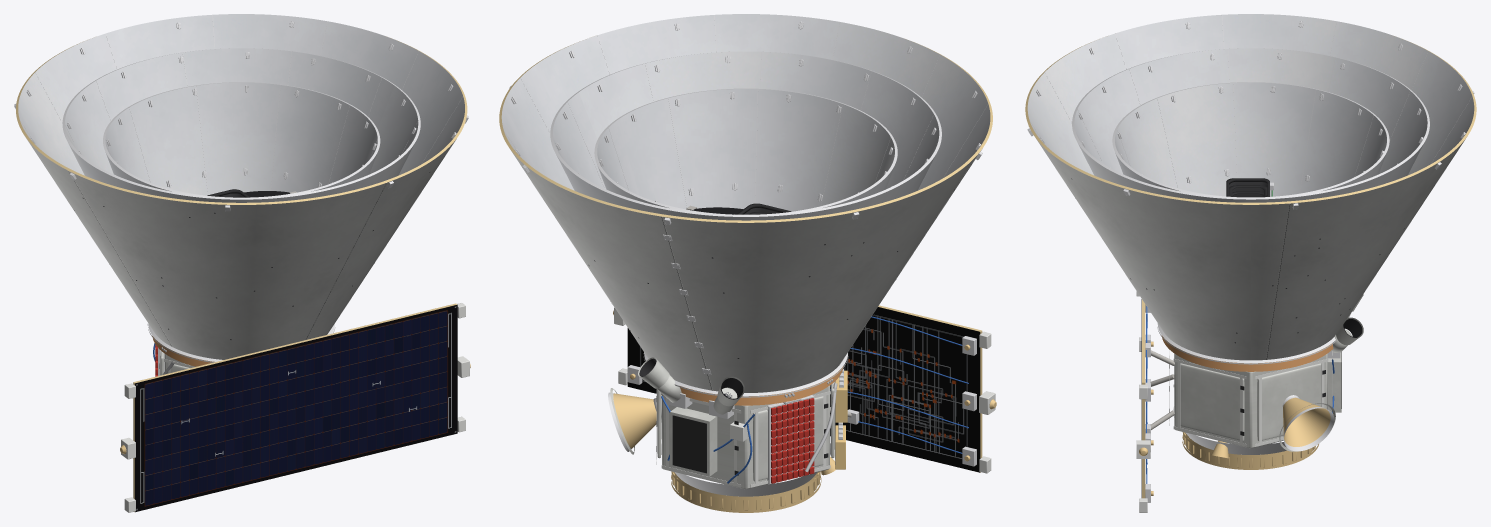
File: spherex.glb
3 views of the same model, side by side, from view 1: azimuth 30°, elevation 25°; view 2: azimuth 150°, elevation 25°; view 3: azimuth 270°, elevation 25° (orthographic). The views are drawn at different scales.
Visible parts, largest first — view 1: Shield_Outer, Solar_Panel, Shield_Inner, Shield_Middle, Shield_Clips, Shield_Interior_Seams, Solar_Panel_Brackets, Shield_Outer_Seams_Fittings, SBand_Omni_Antennas; view 2: Shield_Outer, Shield_Inner, Shield_Middle, Solar_Panel, Red_Grid_Radiator, Instrument_Electronics, Bus_Structure, Launch_Adapter_Ring, Star_Trackers, Bus_Blankets, Gold_Horn_Antenna, Blanket_Tape_Velcro (+9 smaller); view 3: Shield_Outer, Shield_Inner, Shield_Middle, Bus_Blankets, Gold_Horn_Antenna, Bus_Structure, Launch_Adapter_Ring, Blanket_Tape_Velcro, Base_MLI_Band, Shield_Clips, Shield_Interior_Seams, Shield_Base_Ring (+6 smaller).
Boxes of the visible parts, box(x1,y1,x2,y2) form: Shield_Outer: box(16, 14, 467, 359); Solar_Panel: box(133, 303, 457, 512); Shield_Inner: box(103, 82, 380, 197); Shield_Middle: box(62, 48, 420, 202); Shield_Clips: box(14, 21, 468, 211); Shield_Interior_Seams: box(20, 14, 462, 194); Solar_Panel_Brackets: box(124, 303, 465, 512); Shield_Outer_Seams_Fittings: box(68, 171, 386, 347); SBand_Omni_Antennas: box(120, 356, 470, 459); Shield_Outer: box(499, 14, 992, 392); Shield_Inner: box(594, 88, 897, 214); Shield_Middle: box(550, 51, 941, 220); Solar_Panel: box(627, 305, 982, 472); Red_Grid_Radiator: box(767, 395, 814, 484); Instrument_Electronics: box(670, 407, 747, 476); Bus_Structure: box(662, 385, 829, 489); Launch_Adapter_Ring: box(671, 471, 821, 512); Star_Trackers: box(638, 357, 744, 419); Bus_Blankets: box(657, 382, 834, 481); Gold_Horn_Antenna: box(608, 388, 661, 454); Blanket_Tape_Velcro: box(656, 381, 835, 487); Shield_Outer: box(1025, 14, 1476, 360); Shield_Inner: box(1112, 82, 1389, 197); Shield_Middle: box(1072, 48, 1429, 202); Bus_Blankets: box(1180, 363, 1321, 441); Gold_Horn_Antenna: box(1279, 395, 1335, 451); Bus_Structure: box(1174, 353, 1327, 448); Launch_Adapter_Ring: box(1182, 432, 1318, 469); Blanket_Tape_Velcro: box(1169, 350, 1332, 446); Base_MLI_Band: box(1161, 335, 1333, 371); Shield_Clips: box(1027, 21, 1474, 209); Shield_Interior_Seams: box(1030, 15, 1472, 193); Shield_Base_Ring: box(1157, 323, 1336, 364).
Size of the model in its own units: 3.23 by 2.63 by 3.23.
26 materials, 5 textured.
